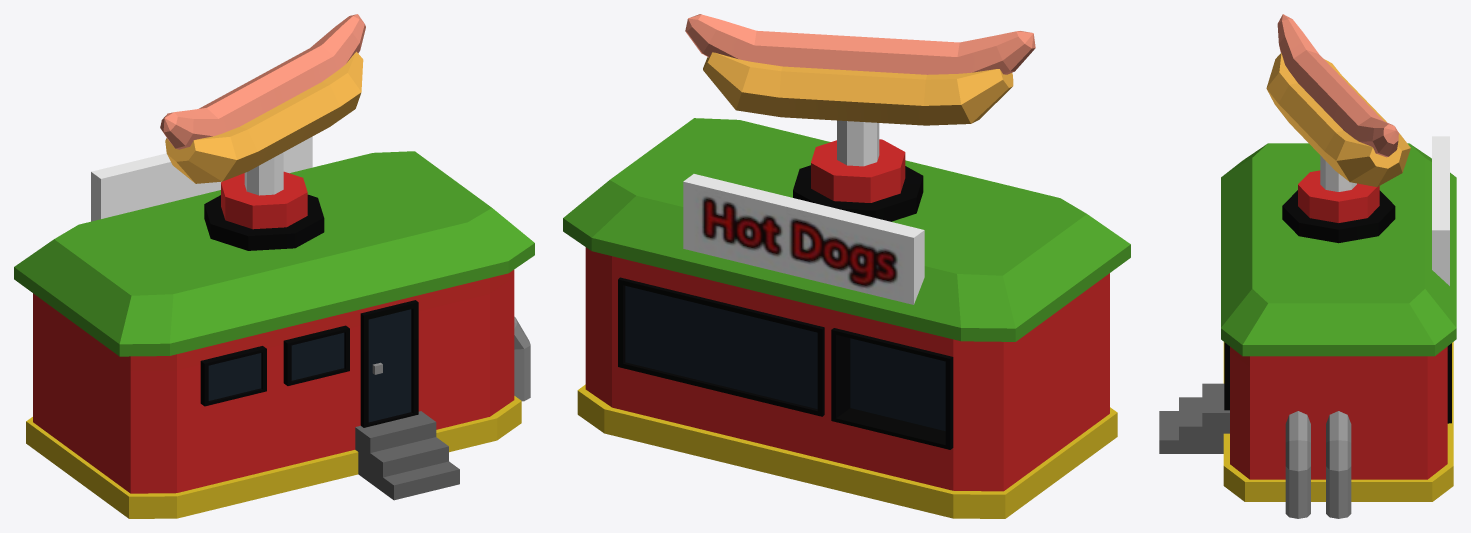
File: 西式快餐厅.gltf
3 renders of one model, left to right at view 1: azimuth 30°, elevation 25°; view 2: azimuth 150°, elevation 25°; view 3: azimuth 270°, elevation 25°, orthographic. The views are drawn at different scales.
Parts seen in each view (by area): view 1: node__-14968; view 2: node__-14968; view 3: node__-14968.
Part boxes in pixels (left/top/right/bottom): node__-14968: left=14, top=14, right=534, bottom=518; node__-14968: left=563, top=14, right=1130, bottom=518; node__-14968: left=1159, top=14, right=1456, bottom=518.
Bounding box in the file's own units: 11.48 × 9.29 × 7.37.
